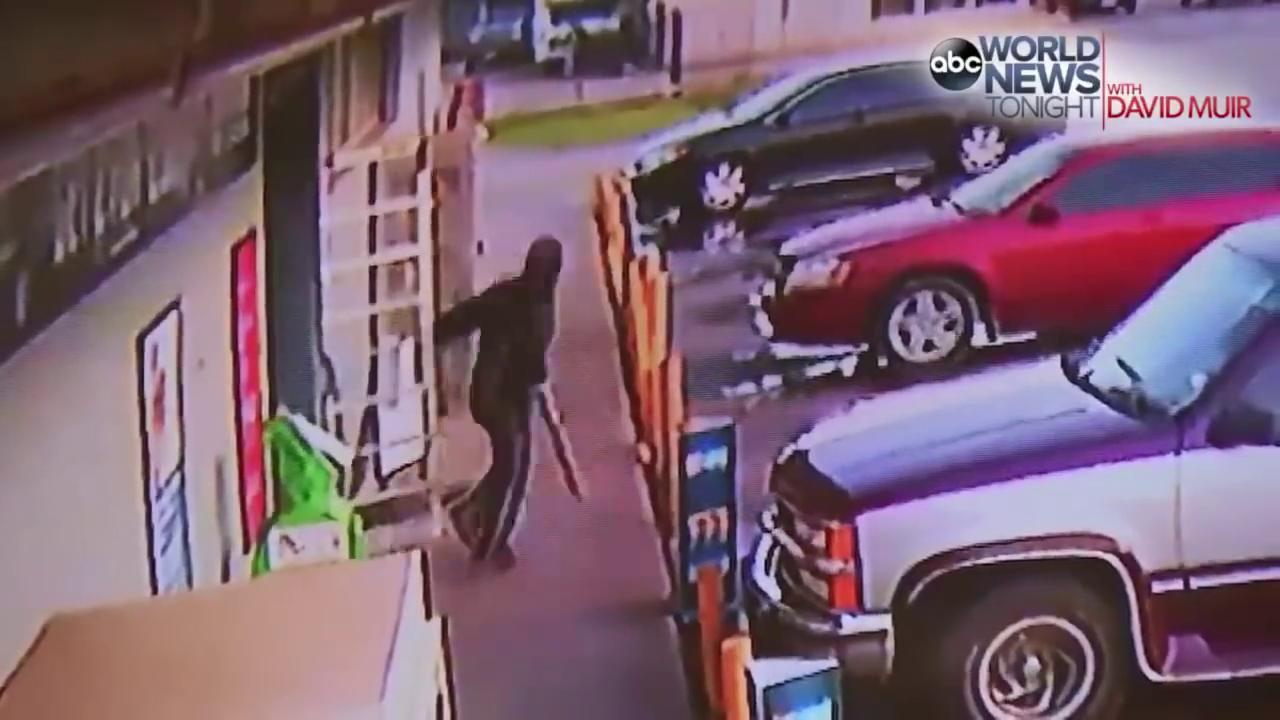gun: (534, 381, 584, 503)
